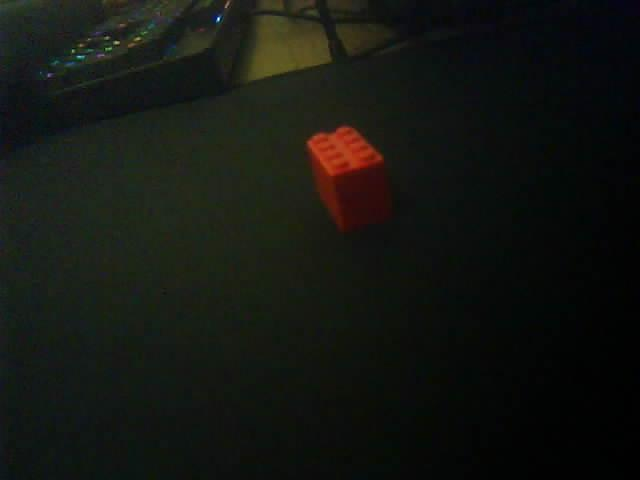lego: (304, 125, 391, 230)
